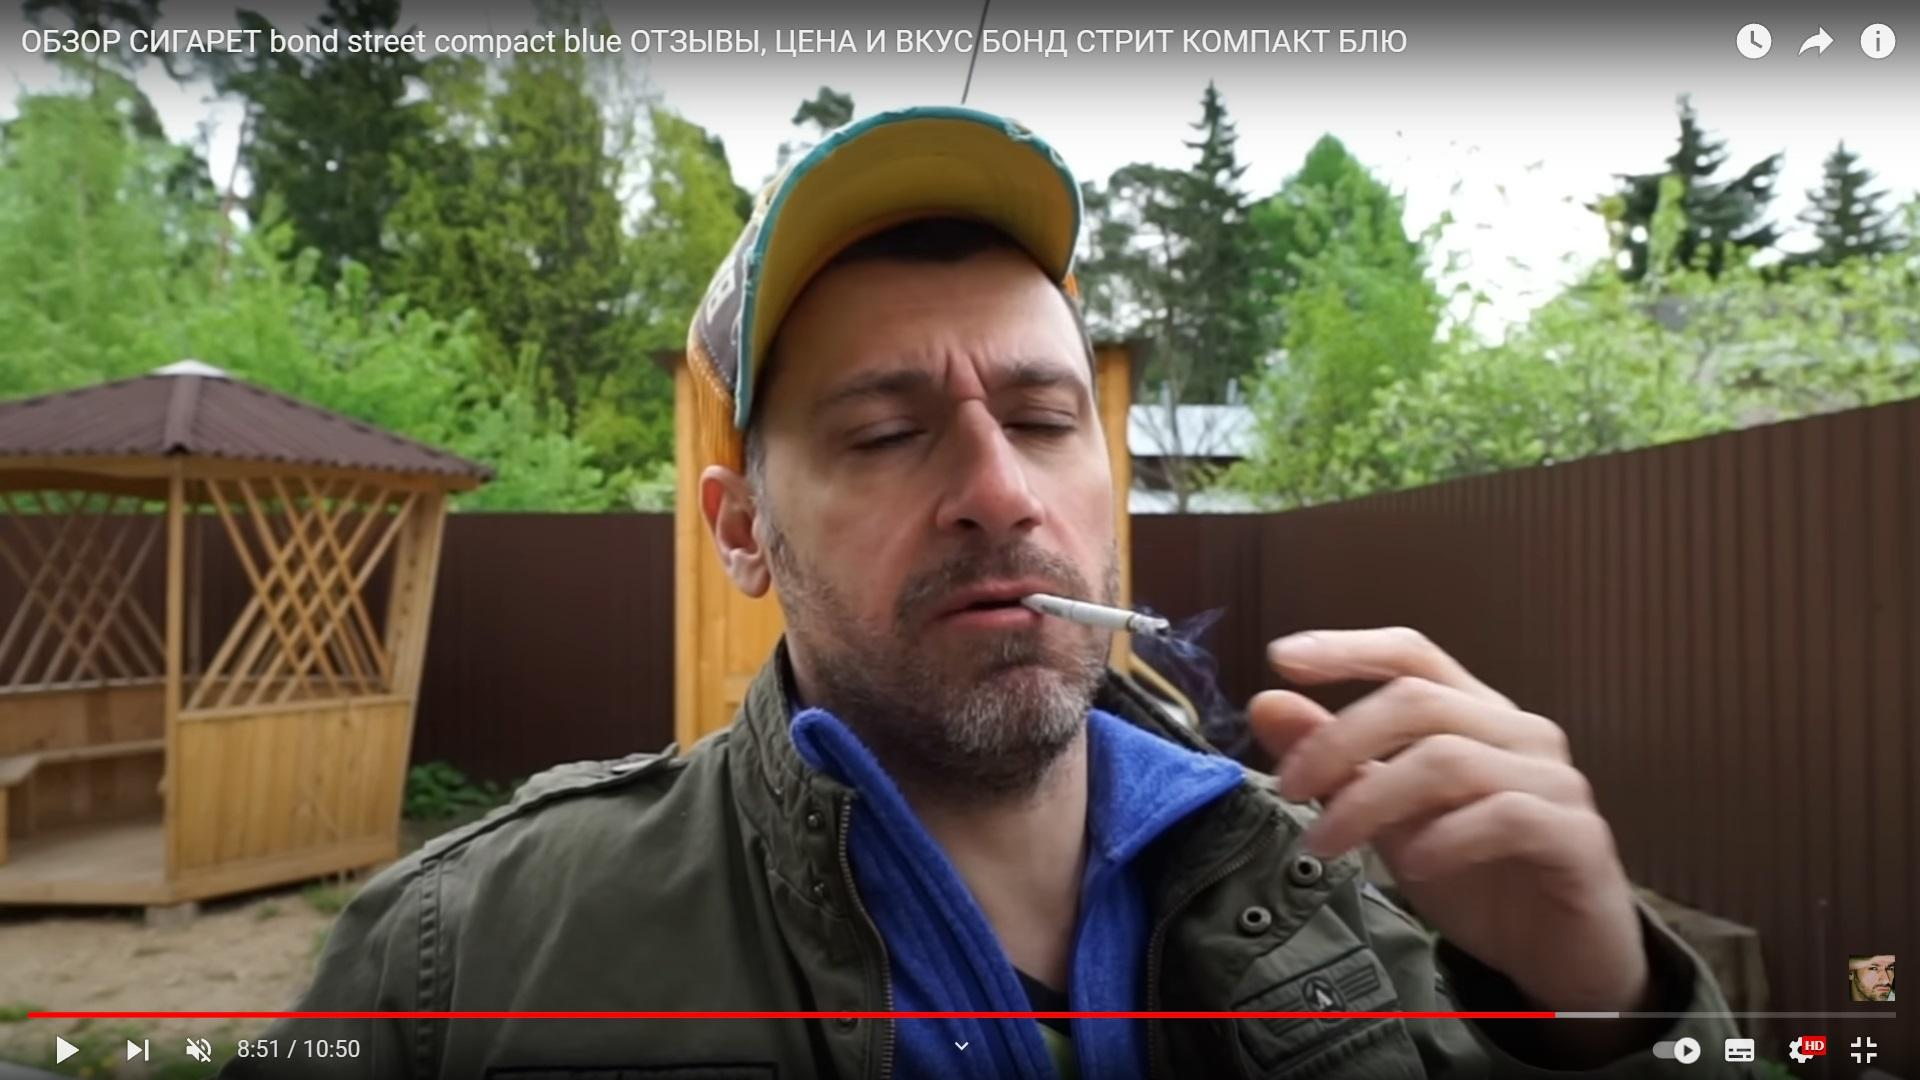cigarette: (1019, 592, 1171, 642)
